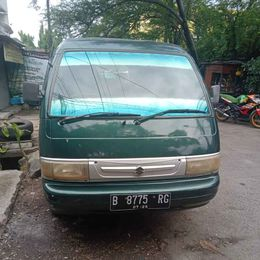plate: (109, 191, 172, 212)
